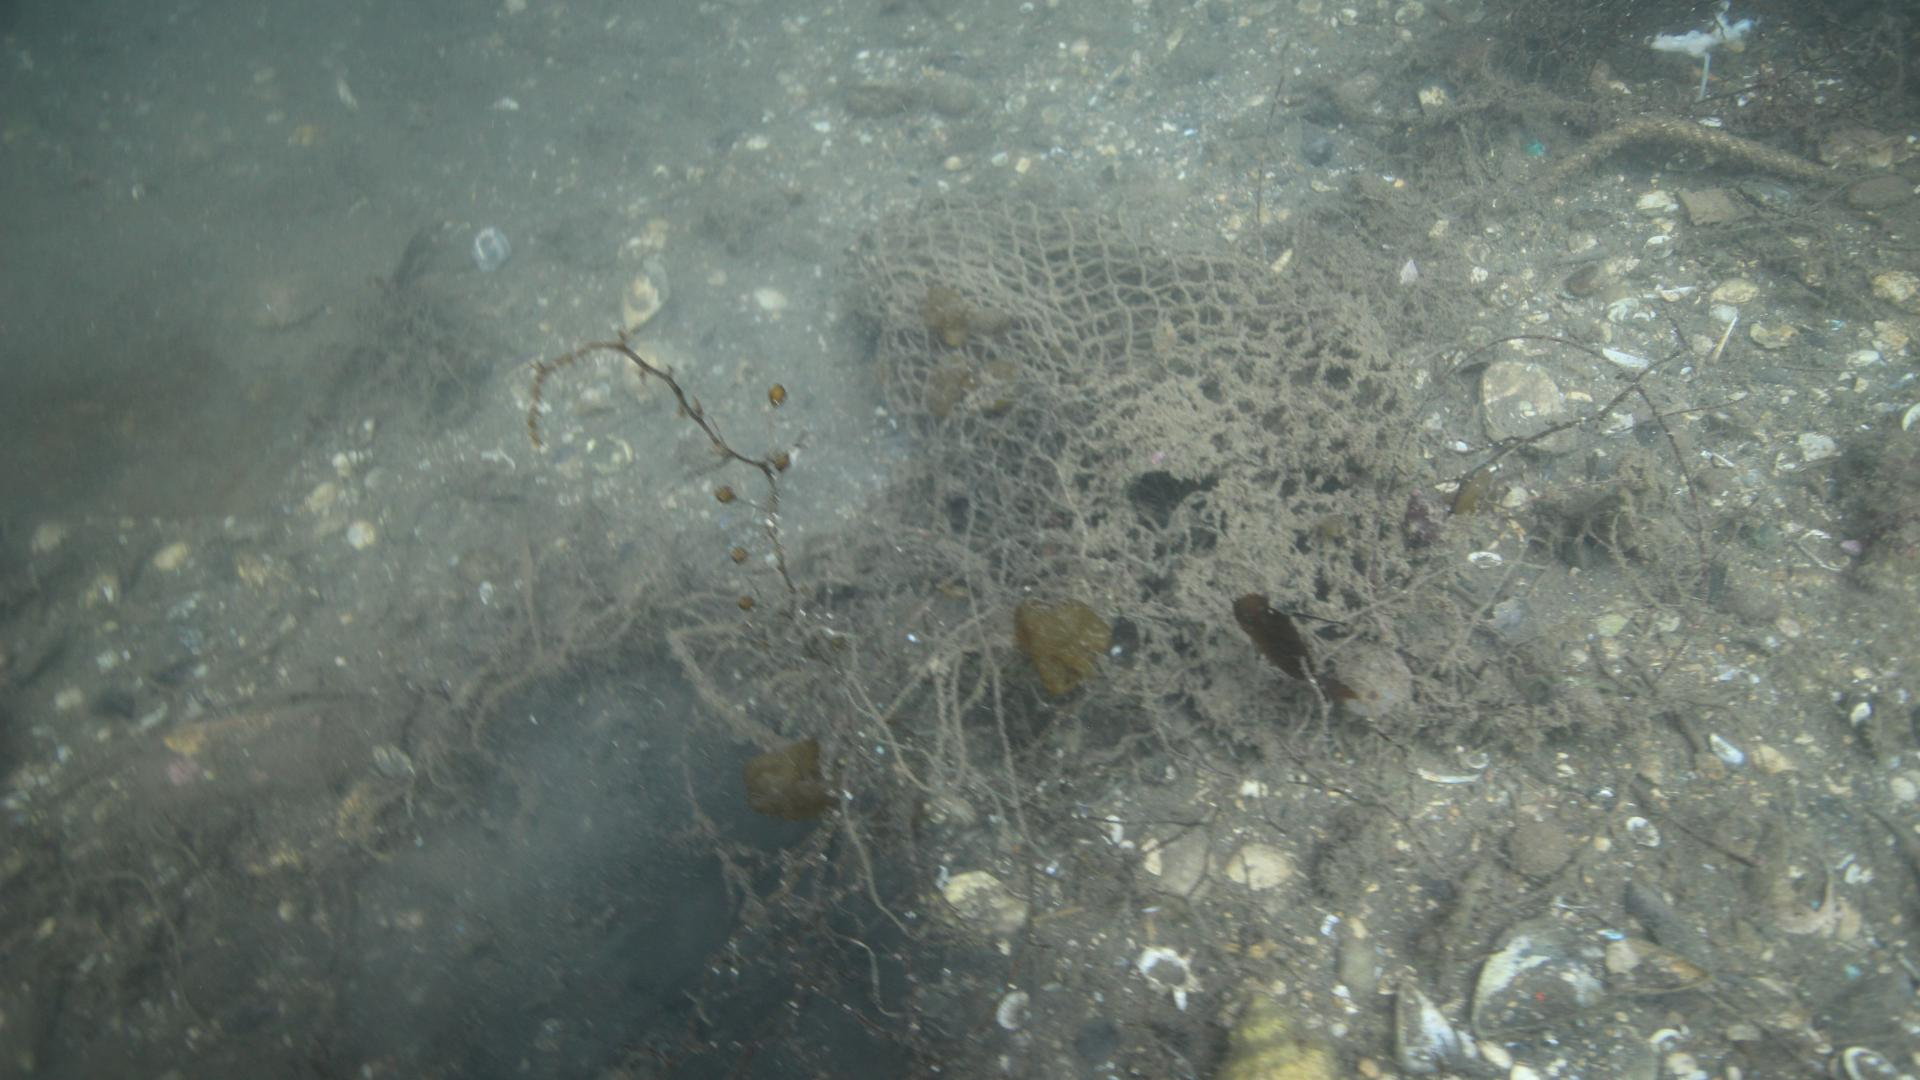fish net: (849, 193, 1404, 510)
